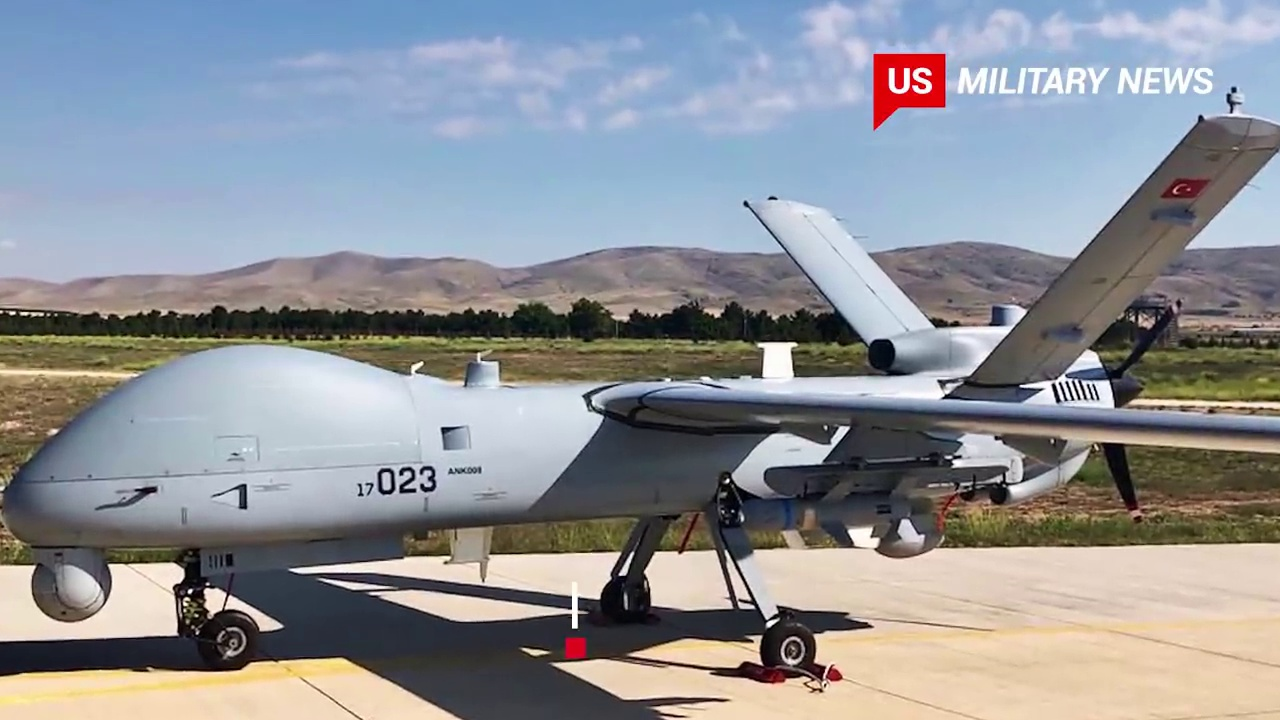uav: (7, 100, 1280, 686)
